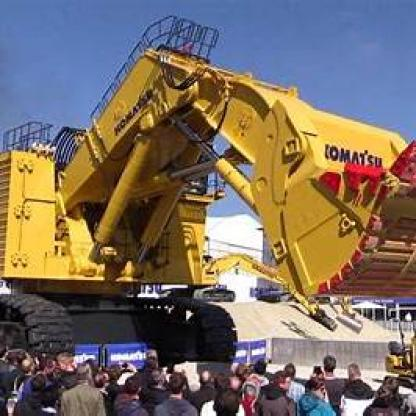excavator: (11, 31, 414, 352)
